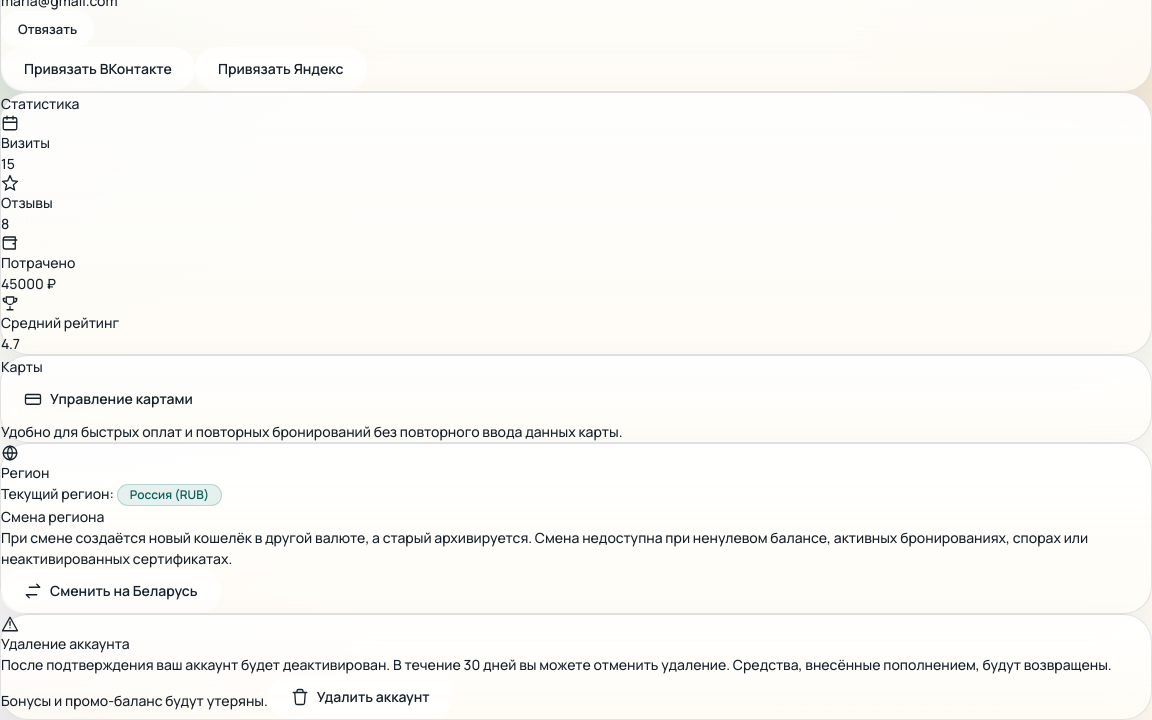
Scenario: ClientProfile › opens region switch confirmation modal
(page scrolled)
Click the button "Сменить на Беларусь" at [111, 591], box [1,569,221,613]
(page scrolled)
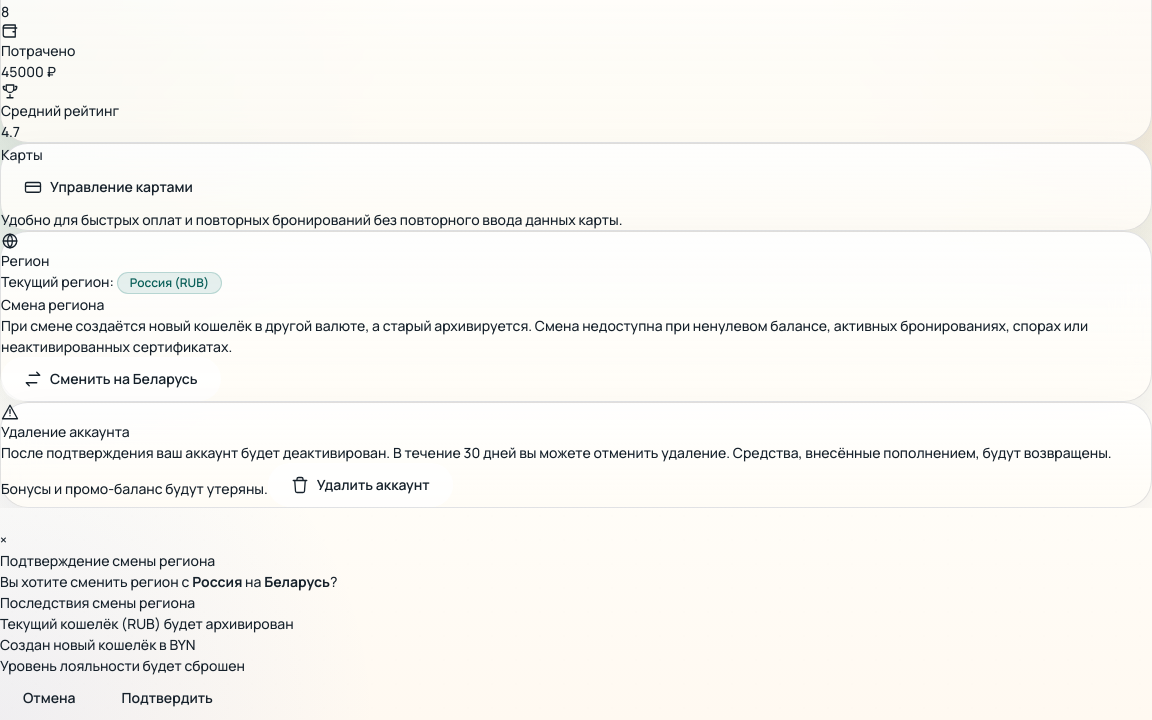
Now the text "Подтверждение смены региона" is shown, box [0,551,215,570]
Now the text "Последствия смены региона" is shown, box [0,593,195,612]
